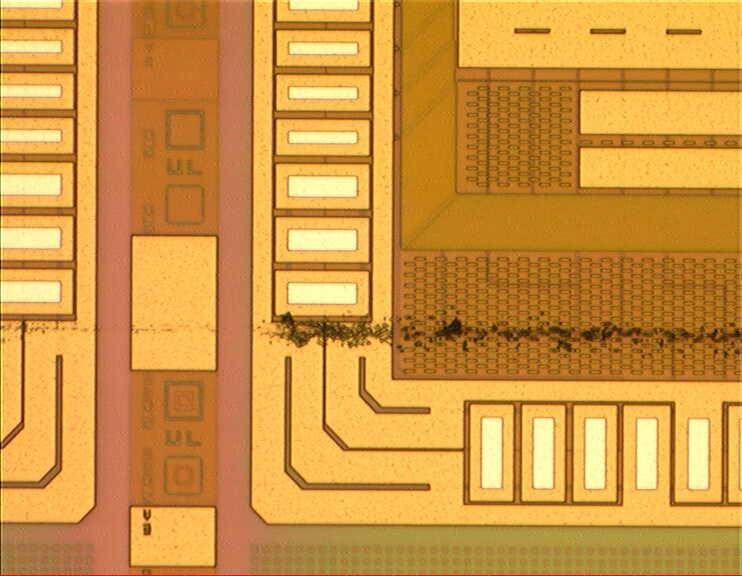SCRATCH: (1, 311, 742, 360)
